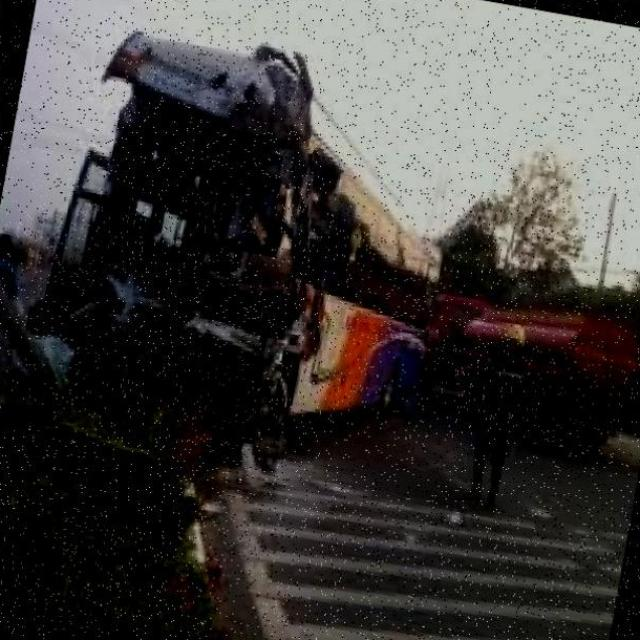accident: (27, 0, 387, 467)
